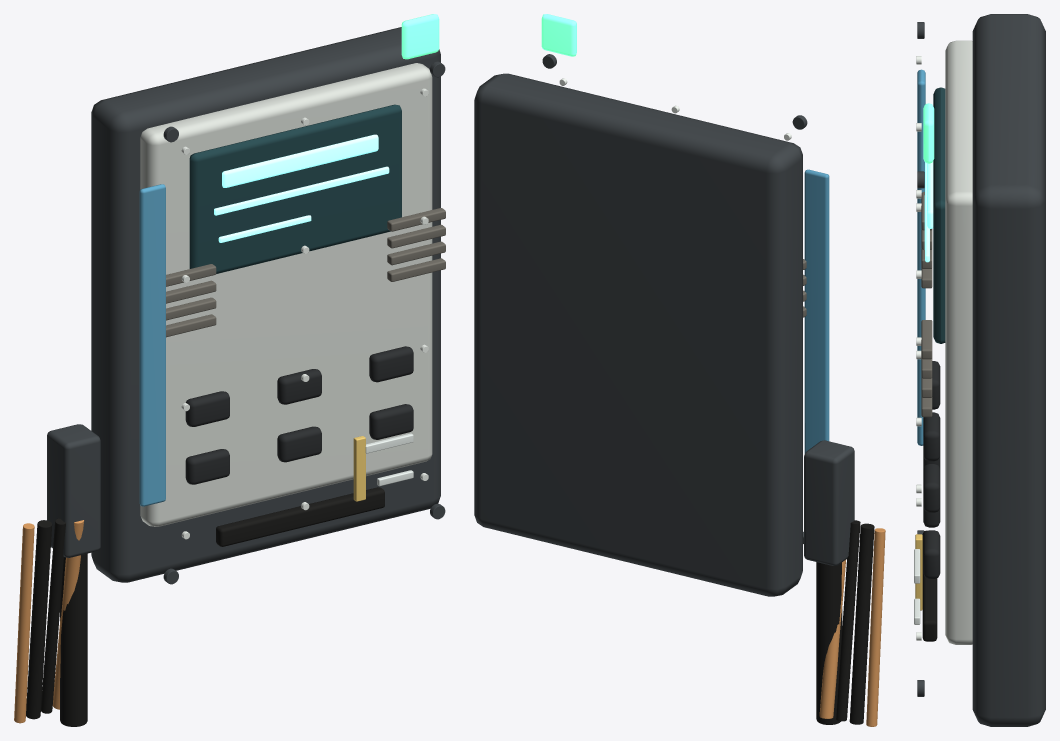
Rendered from hp_room_terminal_wall.glb.
The picture shows the model from 3 angles, left to right: view 1: azimuth 30°, elevation 25°; view 2: azimuth 150°, elevation 25°; view 3: azimuth 270°, elevation 25°; orthographic projection. The views are drawn at different scales.
Parts seen in each view (by area): view 1: room_terminal_wall_panel_face, room_terminal_wall_body_backplate, room_terminal_wall_screen, room_terminal_wall_side_color_spine_art_color_block, room_terminal_wall_side_conduit_stub, room_terminal_wall_wall_cable_drop, room_terminal_wall_card_slot, room_terminal_wall_side_looms_cable_bundle_02, room_terminal_wall_screen_glow_bar, room_terminal_wall_side_looms_cable_bundle_01, room_terminal_wall_side_looms_cable_bundle_03, room_terminal_wall_status_light (+13 smaller); view 2: room_terminal_wall_body_backplate, room_terminal_wall_side_color_spine_art_color_block, room_terminal_wall_side_conduit_stub, room_terminal_wall_side_looms_cable_bundle_02, room_terminal_wall_wall_cable_drop, room_terminal_wall_side_looms_cable_bundle_01, room_terminal_wall_side_looms_cable_bundle_03, room_terminal_wall_side_looms_cable_bundle_04, room_terminal_wall_status_light; view 3: room_terminal_wall_body_backplate, room_terminal_wall_panel_face, room_terminal_wall_screen, room_terminal_wall_side_color_spine_art_color_block, room_terminal_wall_card_slot, room_terminal_wall_button_1_3, room_terminal_wall_button_2_3, room_terminal_wall_button_1_2, room_terminal_wall_status_light, room_terminal_wall_vent_slit_04.001, room_terminal_wall_screen_glow_bar, room_terminal_wall_button_1_1 (+8 smaller).
Part boxes in pixels (box(x1,y1,x2,y2)): room_terminal_wall_panel_face: box(140, 63, 432, 526); room_terminal_wall_body_backplate: box(91, 27, 440, 582); room_terminal_wall_screen: box(189, 104, 401, 273); room_terminal_wall_side_color_spine_art_color_block: box(139, 184, 165, 506); room_terminal_wall_side_conduit_stub: box(47, 424, 100, 557); room_terminal_wall_wall_cable_drop: box(60, 553, 87, 726); room_terminal_wall_card_slot: box(216, 487, 384, 546); room_terminal_wall_side_looms_cable_bundle_02: box(26, 520, 52, 719); room_terminal_wall_screen_glow_bar: box(222, 134, 378, 187); room_terminal_wall_side_looms_cable_bundle_01: box(14, 523, 34, 723); room_terminal_wall_side_looms_cable_bundle_03: box(41, 518, 65, 713); room_terminal_wall_status_light: box(401, 14, 439, 59); room_terminal_wall_body_backplate: box(474, 73, 802, 596); room_terminal_wall_side_color_spine_art_color_block: box(804, 169, 829, 453); room_terminal_wall_side_conduit_stub: box(804, 440, 854, 565); room_terminal_wall_side_looms_cable_bundle_02: box(849, 523, 874, 724); room_terminal_wall_wall_cable_drop: box(816, 562, 842, 724); room_terminal_wall_side_looms_cable_bundle_01: box(866, 528, 885, 726); room_terminal_wall_side_looms_cable_bundle_03: box(836, 520, 860, 721); room_terminal_wall_side_looms_cable_bundle_04: box(819, 559, 846, 718); room_terminal_wall_status_light: box(541, 14, 576, 56); room_terminal_wall_body_backplate: box(972, 14, 1045, 726); room_terminal_wall_panel_face: box(945, 40, 972, 644); room_terminal_wall_screen: box(933, 87, 945, 343); room_terminal_wall_side_color_spine_art_color_block: box(917, 69, 925, 445); room_terminal_wall_card_slot: box(922, 530, 937, 641); room_terminal_wall_button_1_3: box(923, 464, 940, 512); room_terminal_wall_button_2_3: box(923, 530, 940, 578); room_terminal_wall_button_1_2: box(923, 412, 940, 461); room_terminal_wall_status_light: box(923, 103, 934, 163); room_terminal_wall_vent_slit_04.001: box(921, 320, 932, 359); room_terminal_wall_screen_glow_bar: box(927, 161, 933, 228); room_terminal_wall_button_1_1: box(932, 361, 940, 409).
Size of the model in its own units: 0.9088 by 1.35 by 0.216.
